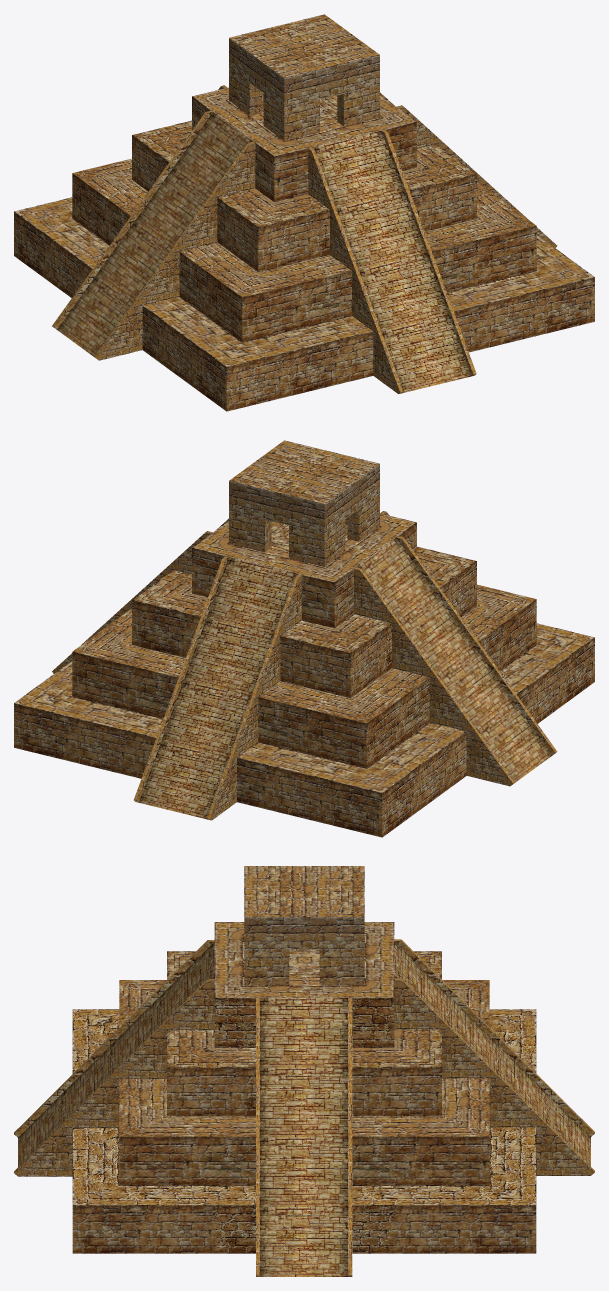
File: mpyramid2.glb
3 renders of one model, top to bottom at view 1: azimuth 30°, elevation 25°; view 2: azimuth 150°, elevation 25°; view 3: azimuth 270°, elevation 25°, orthographic. The views are drawn at different scales.
Parts seen in each view (by area): view 1: mpyramid2-col; view 2: mpyramid2-col; view 3: mpyramid2-col.
Part boxes in pixels (bbox=[...]): mpyramid2-col: bbox=[14, 14, 594, 411]; mpyramid2-col: bbox=[14, 440, 594, 837]; mpyramid2-col: bbox=[14, 866, 594, 1276].
Size of the model in its own units: 32.34 by 16.24 by 32.34.
Materials: 7 (7 with a texture image).
